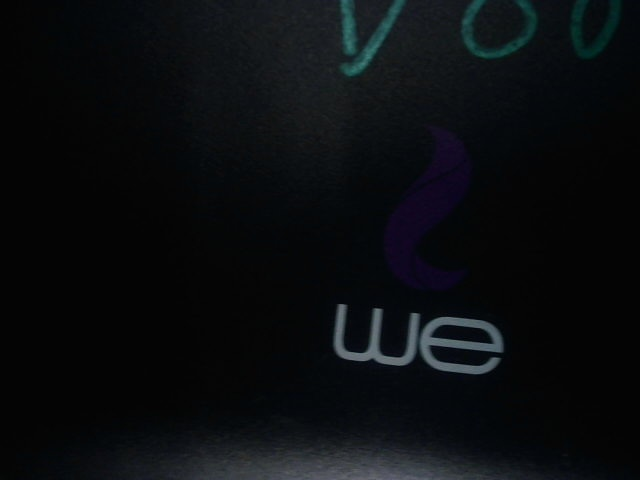AT_We: (309, 116, 522, 376)
